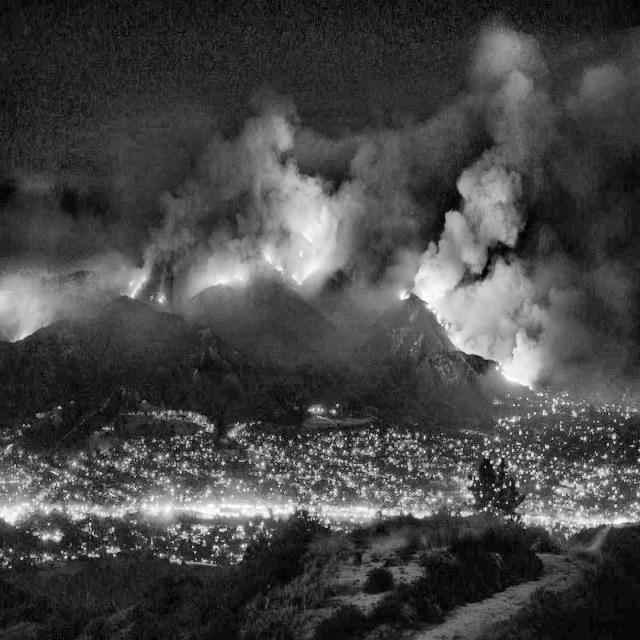fire: (390, 239, 578, 447), (187, 205, 362, 378), (111, 227, 180, 353), (10, 324, 55, 361)
